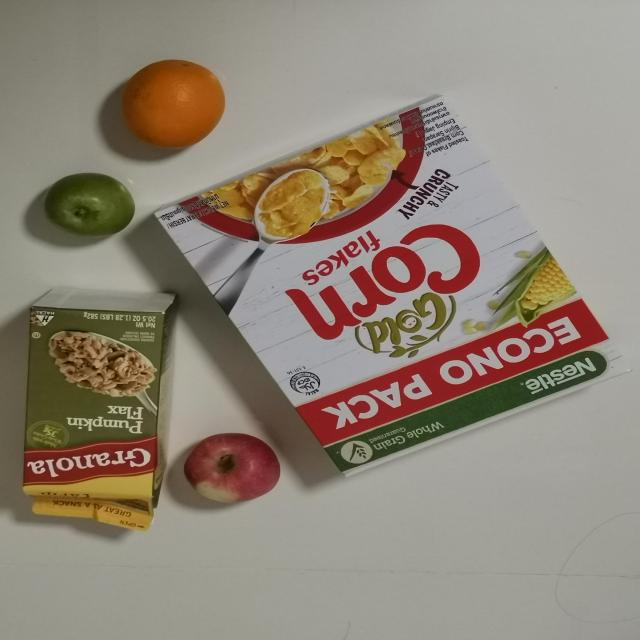Apple: (182, 426, 286, 511), (37, 174, 133, 243)
Cerealbox: (145, 92, 634, 481), (23, 282, 179, 538)
Orange: (116, 58, 227, 150)
